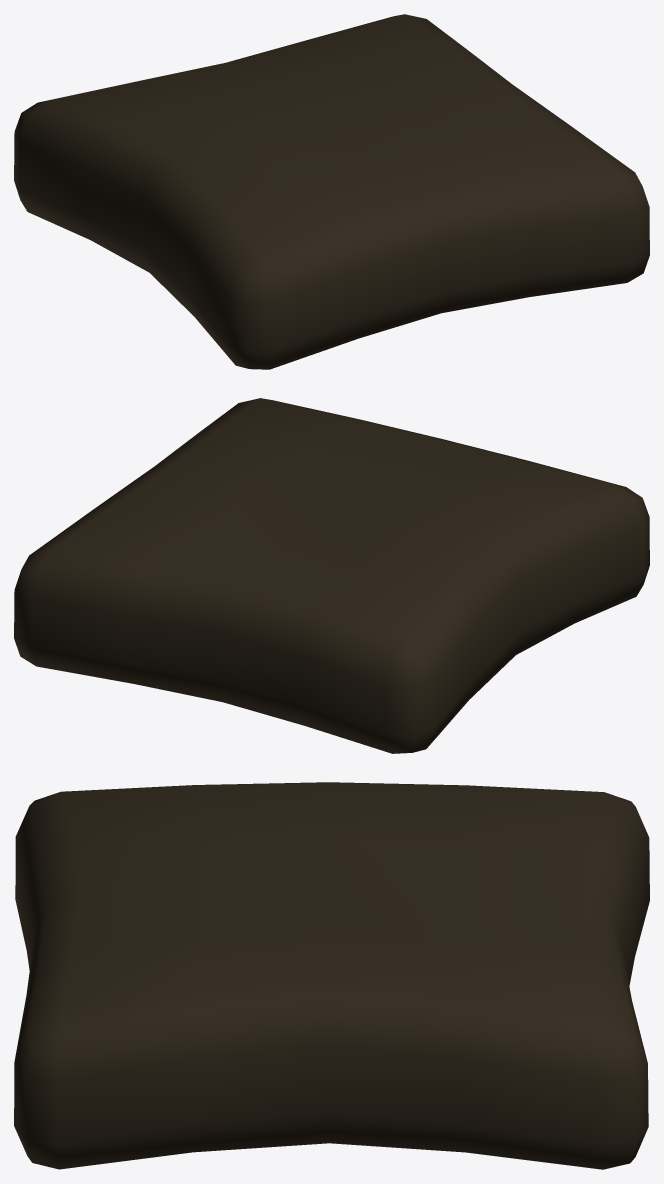
Rendered from Cojin1.fbx.
3 renders of one model, top to bottom at view 1: azimuth 30°, elevation 25°; view 2: azimuth 150°, elevation 25°; view 3: azimuth 270°, elevation 25°, orthographic. The views are drawn at different scales.
Parts seen in each view (by area): view 1: Cube.004; view 2: Cube.004; view 3: Cube.004.
Boxes of the visible parts, left/top/right/bottom form: Cube.004: left=14, top=14, right=649, bottom=369; Cube.004: left=14, top=398, right=649, bottom=753; Cube.004: left=14, top=782, right=649, bottom=1169.
Size of the model in its own units: 437 by 132 by 443.
